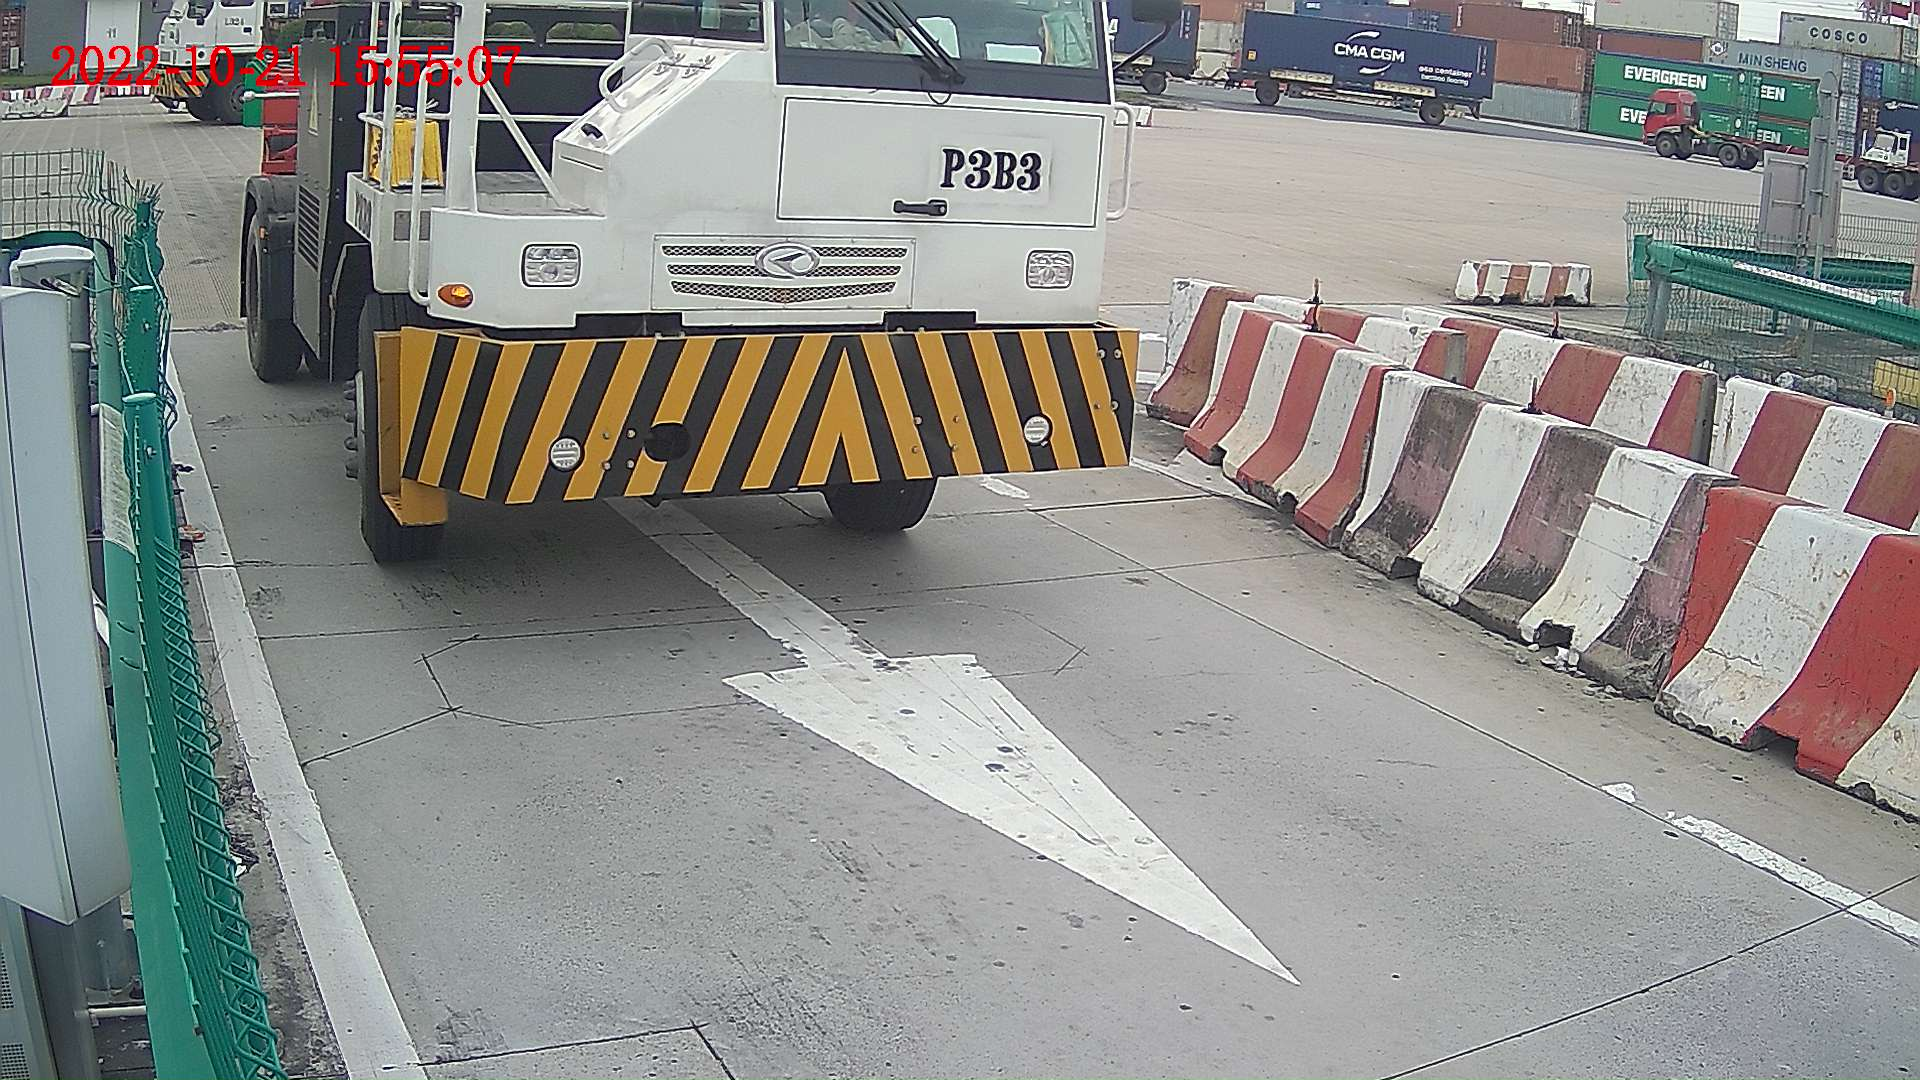head: (366, 1, 1130, 565)
